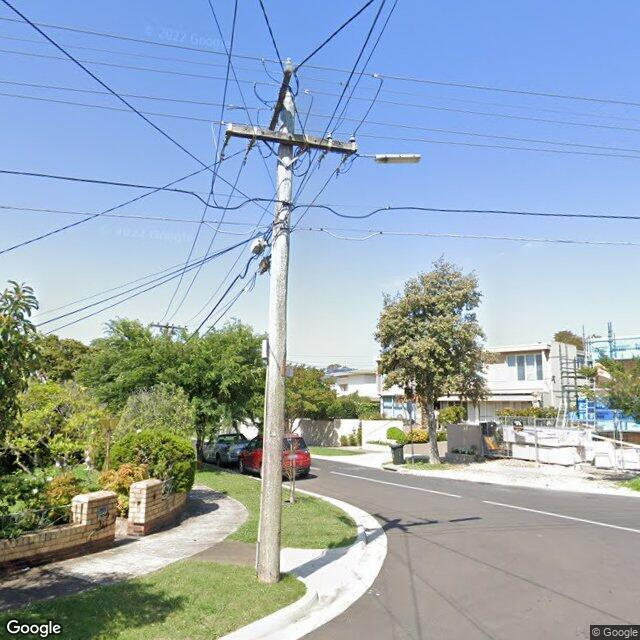crossarm: (221, 118, 358, 178), (253, 58, 301, 130)
streetlight: (359, 153, 421, 165)
timber-pole: (254, 90, 295, 584)
